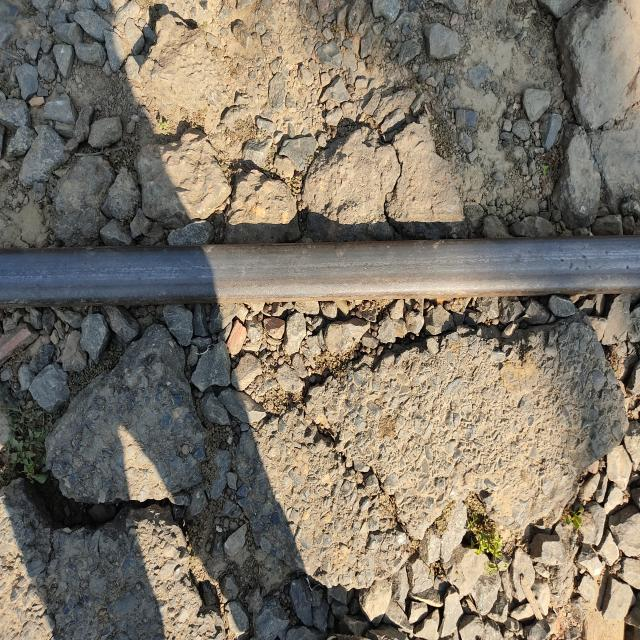non-defective: (213, 194, 524, 337)
